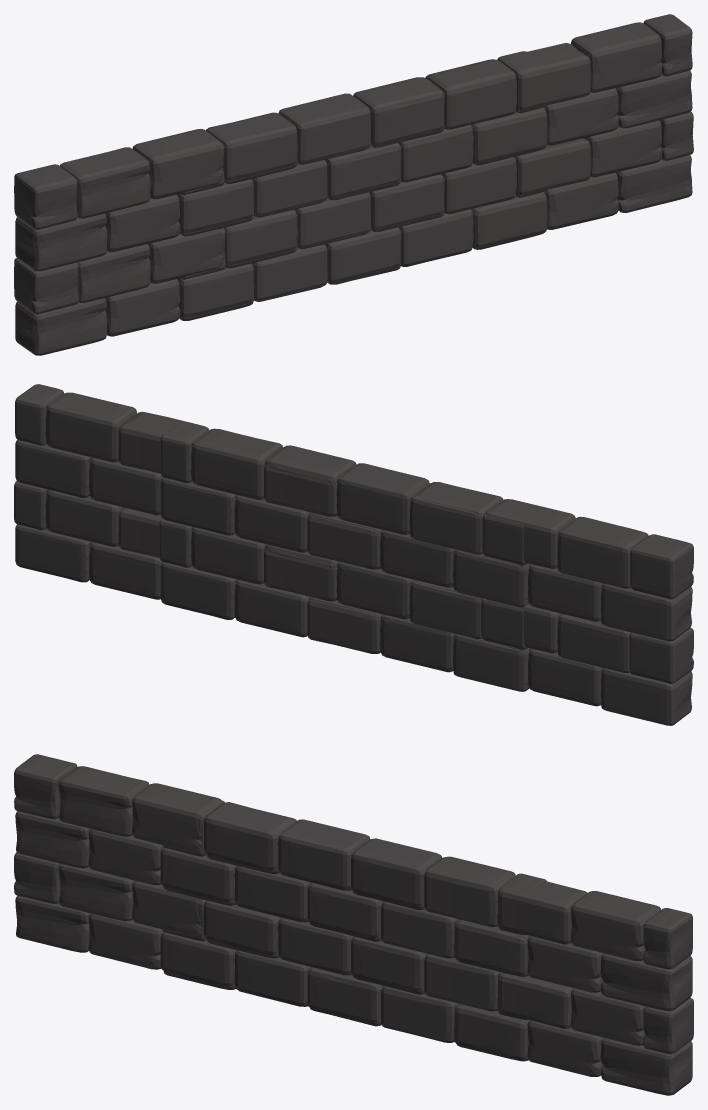
The model's file is BrickWalls.fbx.
3 renders of one model, top to bottom at view 1: azimuth 30°, elevation 25°; view 2: azimuth 150°, elevation 25°; view 3: azimuth 330°, elevation 25°, orthographic.
Visible parts, largest first — view 1: BrickWall.001, BrickWall; view 2: BrickWall.001, BrickWall; view 3: BrickWall.001, BrickWall.
Boxes of the visible parts, <box> form: BrickWall.001: <box>14,14,693,355</box>; BrickWall: <box>179,51,546,320</box>; BrickWall.001: <box>14,384,693,725</box>; BrickWall: <box>159,421,529,691</box>; BrickWall.001: <box>14,754,693,1095</box>; BrickWall: <box>162,800,546,1061</box>.
Size of the model in its own units: 7.46 by 1.86 by 0.4771.
